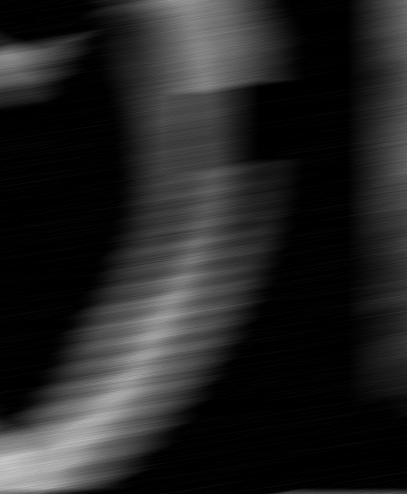Airbag: (0, 0, 407, 494), (383, 1, 407, 494)
